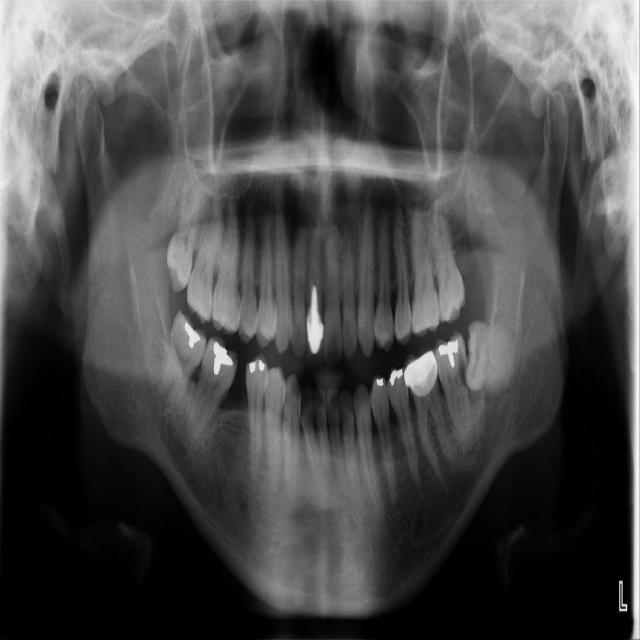3M ESPE Implant: (160, 183, 207, 294)
52: (194, 336, 243, 397), (167, 312, 209, 370), (404, 347, 438, 406), (435, 330, 466, 379), (244, 352, 270, 398), (385, 367, 410, 410), (368, 375, 389, 422), (305, 316, 325, 365)
73: (307, 225, 323, 318), (590, 566, 596, 580)
BioHorizons Implant: (423, 193, 470, 325)
Biomet 3i Implant: (462, 317, 521, 394)
Blue Sky Bio Implant: (433, 330, 475, 443)
Caries: (183, 205, 225, 326)
Implant: (173, 335, 245, 452)
Keystone Dental Implant: (153, 307, 213, 416)
